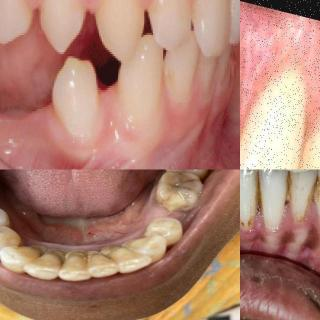Gum Swelling: (240, 199, 320, 240)
calculus: (40, 246, 66, 266), (120, 235, 144, 256), (99, 242, 121, 264), (62, 247, 85, 268), (138, 223, 160, 244), (84, 246, 104, 269), (27, 241, 47, 261)
cavities: (162, 174, 195, 199)
stains: (281, 170, 301, 208), (249, 170, 265, 216), (312, 172, 320, 208), (240, 208, 252, 231)
